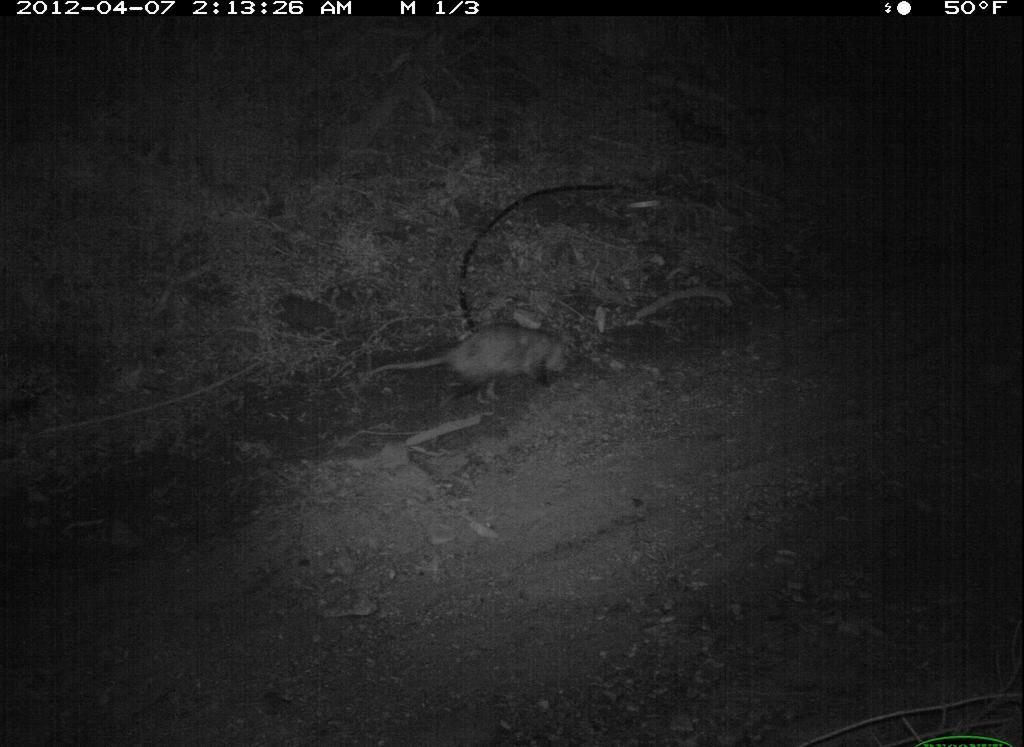opossum: (356, 318, 582, 397)
